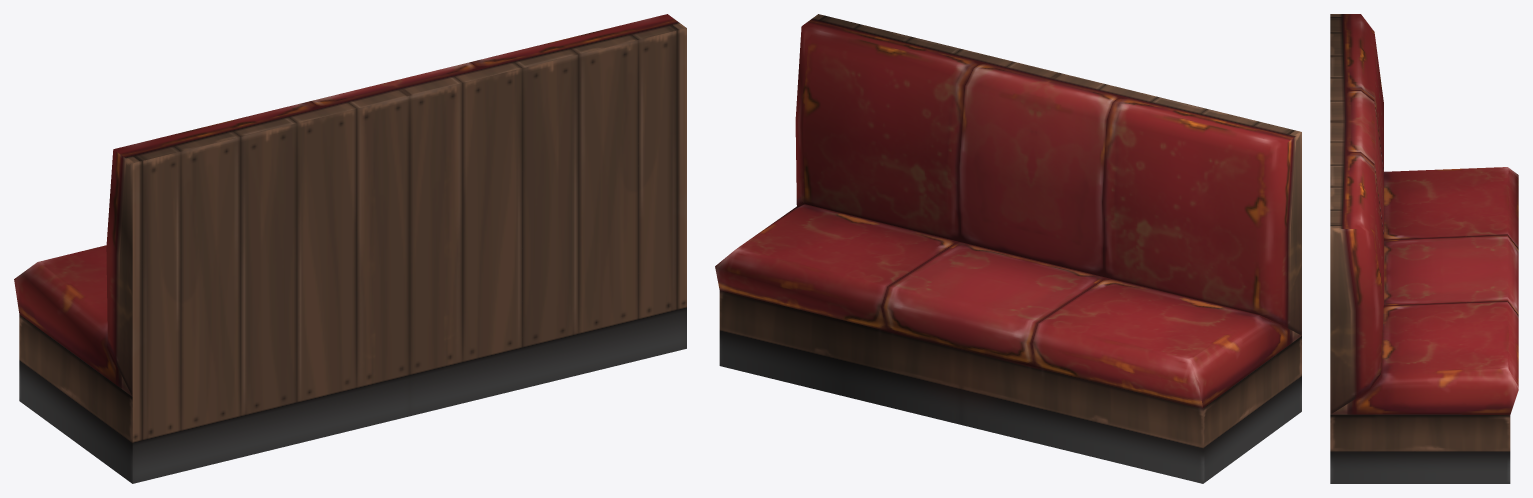
Rendered from FUR0110010.fbx.
3 views of the same model, side by side, from view 1: azimuth 30°, elevation 25°; view 2: azimuth 150°, elevation 25°; view 3: azimuth 270°, elevation 25° (orthographic). The views are drawn at different scales.
Visible parts, largest first — view 1: smFUR0110010; view 2: smFUR0110010; view 3: smFUR0110010.
Boxes of the visible parts, box(x1,y1,x2,y2) form: smFUR0110010: box(14, 14, 686, 483); smFUR0110010: box(715, 14, 1301, 483); smFUR0110010: box(1330, 14, 1518, 483).
Size of the model in its own units: 205 by 113 by 75.79.
1 material, 1 textured.
